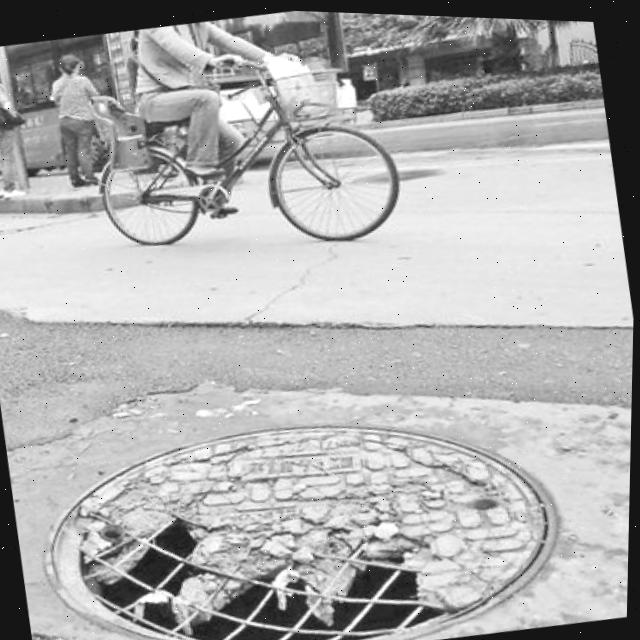manhole: (27, 369, 577, 640)
